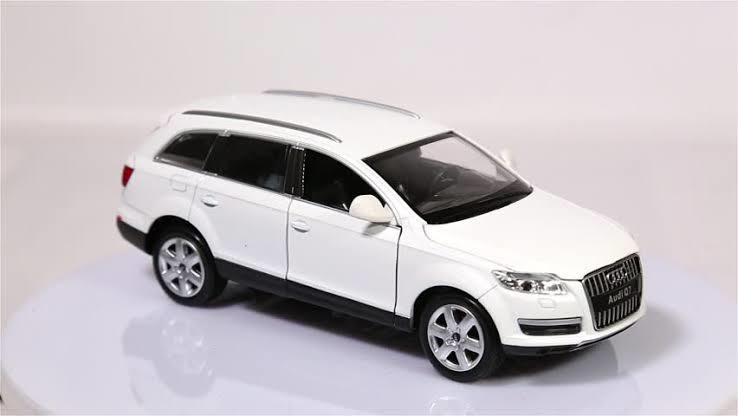audi: (97, 71, 661, 395)
